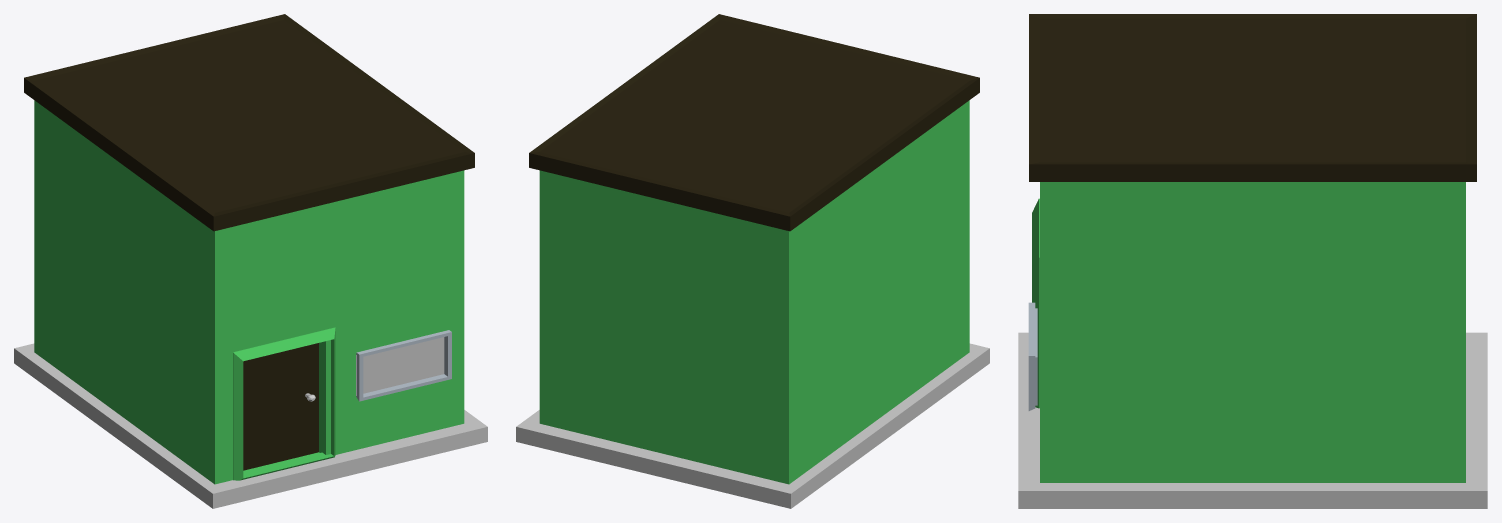
Rendered from building_sm.obj.
3 renders of one model, left to right at view 1: azimuth 30°, elevation 25°; view 2: azimuth 150°, elevation 25°; view 3: azimuth 270°, elevation 25°, orthographic. The views are drawn at different scales.
Visible parts, largest first — view 1: Building_sm; view 2: Building_sm; view 3: Building_sm.
Boxes of the visible parts, <box> form: Building_sm: <box>14,14,487,508</box>; Building_sm: <box>516,14,989,508</box>; Building_sm: <box>1018,14,1487,508</box>.
Size of the model in its own units: 1.76 by 1.76 by 2.2.
